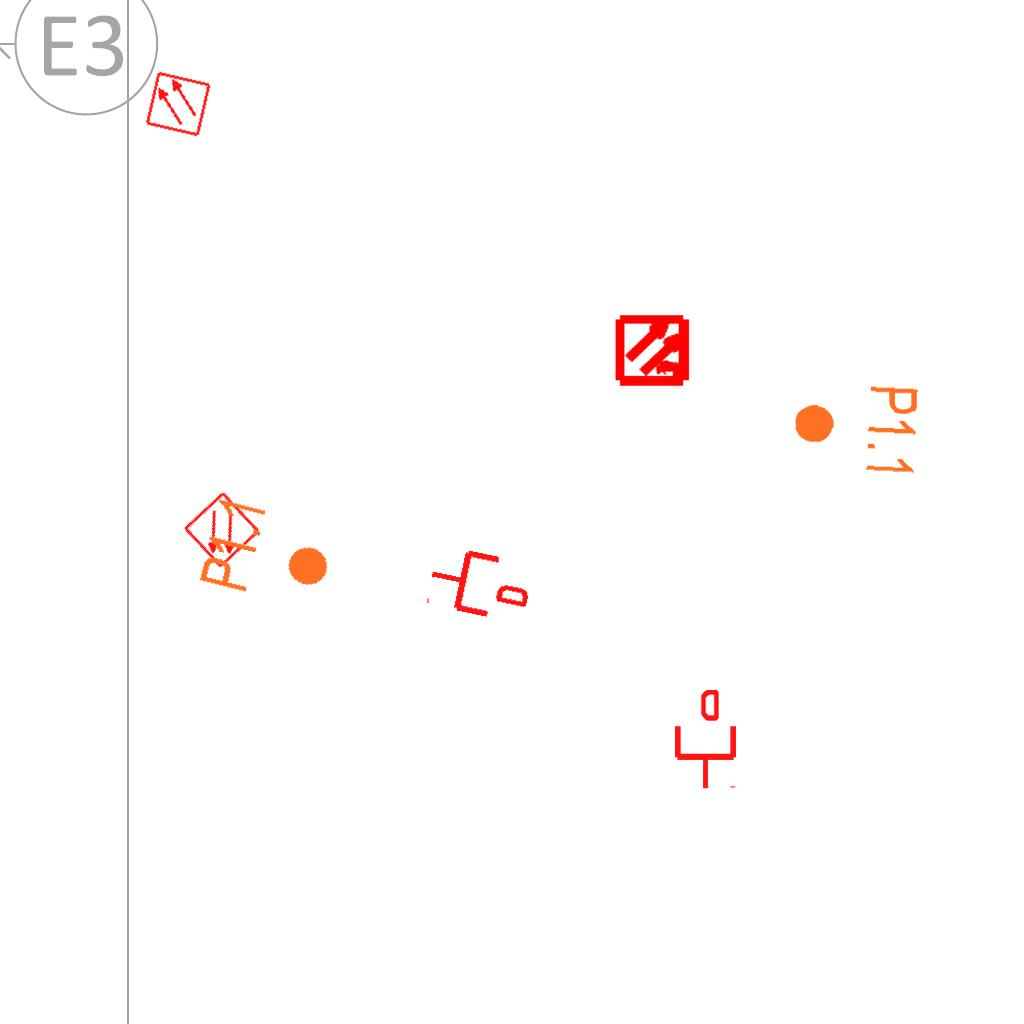Datenanschluss_einfach: (423, 539, 536, 629), (671, 690, 740, 790)
Downlight_LED_Einbauleuchten_Flur: (195, 492, 342, 614), (789, 379, 922, 479)
OT_Multisensormelder_(Kombination_RMO_WMD): (598, 294, 711, 407)
RMO_Rauchmelder_optischer: (182, 490, 262, 570), (144, 70, 212, 138)
